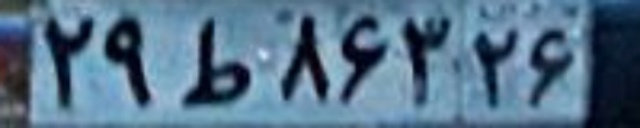2: (42, 12, 92, 109), (470, 26, 516, 108)
3: (399, 13, 450, 106)
6: (337, 13, 390, 104), (101, 15, 153, 104), (527, 28, 575, 108)
8: (274, 15, 329, 101)
taa: (179, 14, 254, 106)
